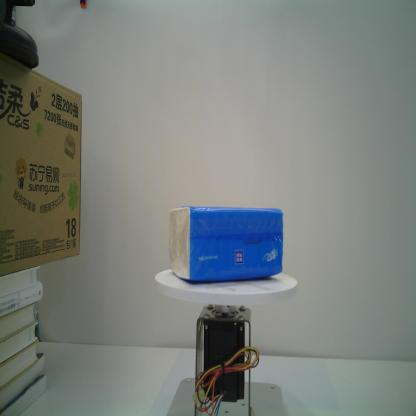Tissue: (168, 205, 284, 281)
